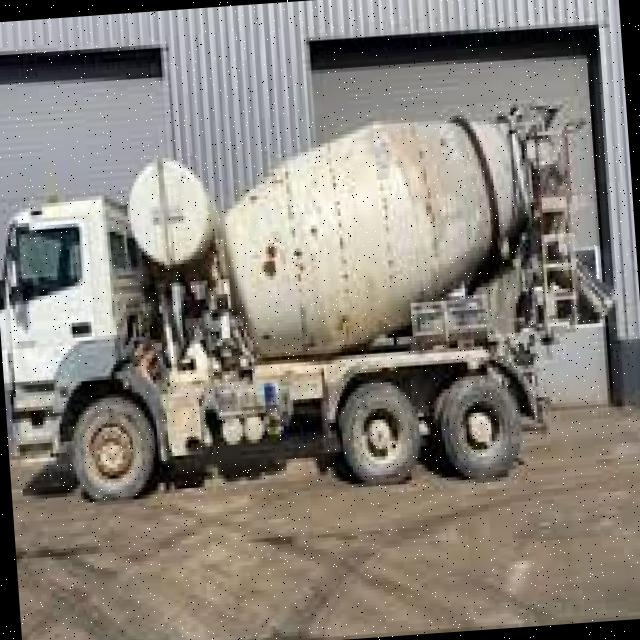Mixer Truck: (0, 90, 629, 515)
